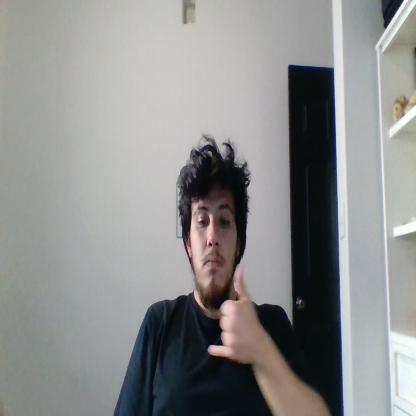Y: (208, 263, 258, 362)
